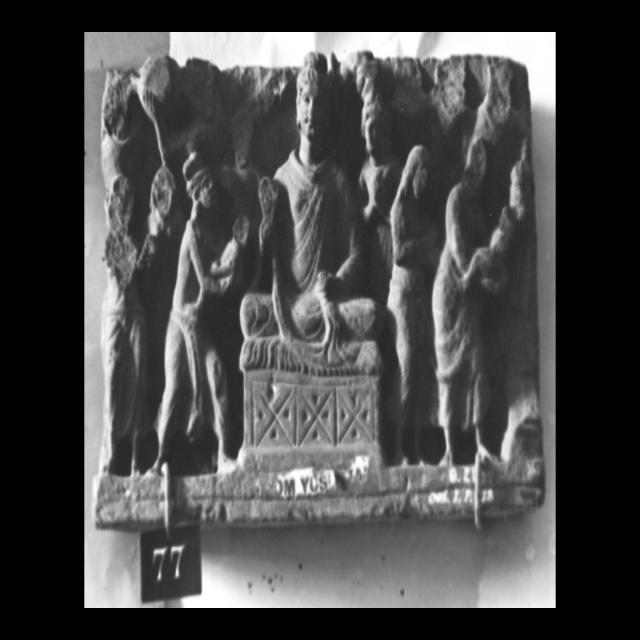buddha-sitting: (240, 56, 381, 469)
